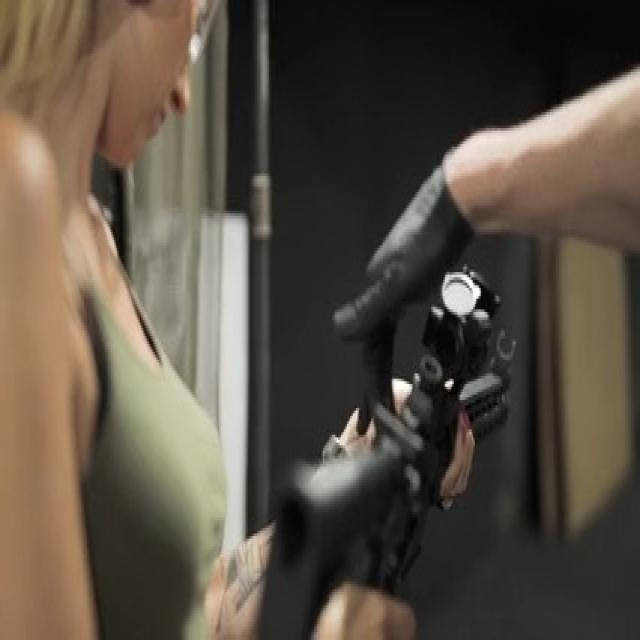Gun_Holder: (247, 262, 640, 640)
Person: (0, 0, 297, 640)
